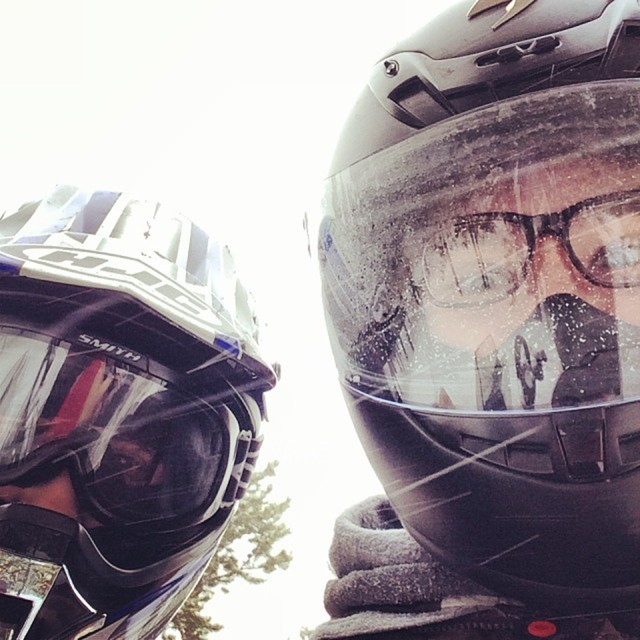helmet: (313, 27, 640, 570), (3, 181, 252, 637)
